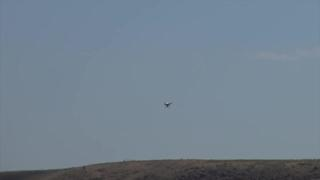UAV: (164, 102, 173, 109)
